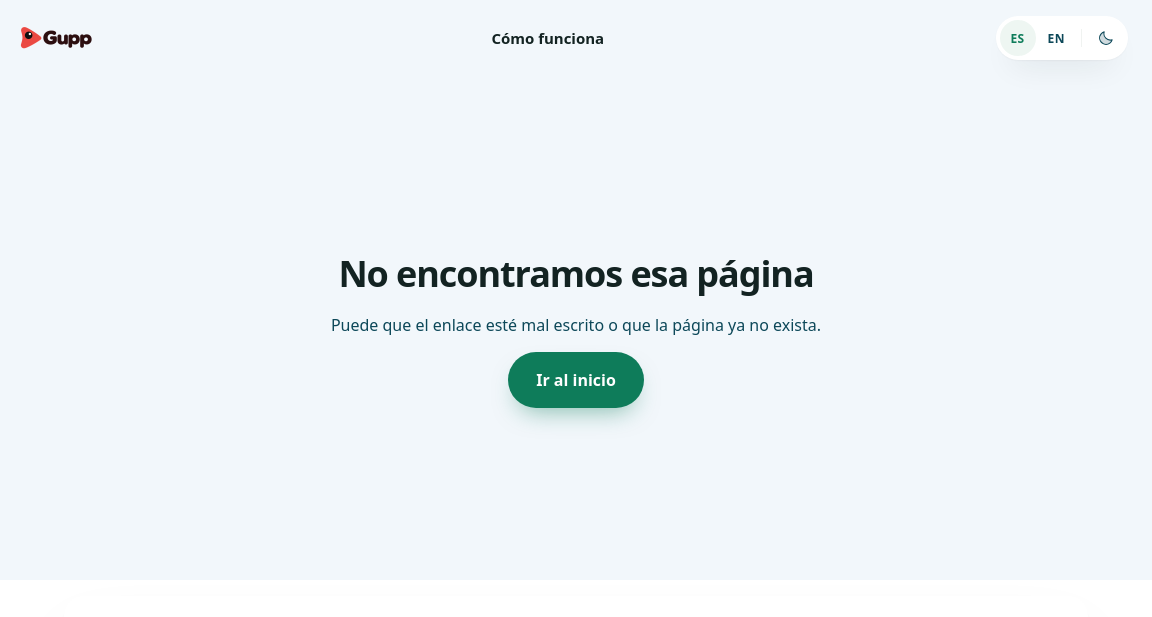
Test: AppRoutes › language switch › changes the language in the URL and keeps the rest of it
Click the button with aria-label "English" at {"x": 1056, "y": 38}, box x1=1038 y1=20 x2=1075 y2=56
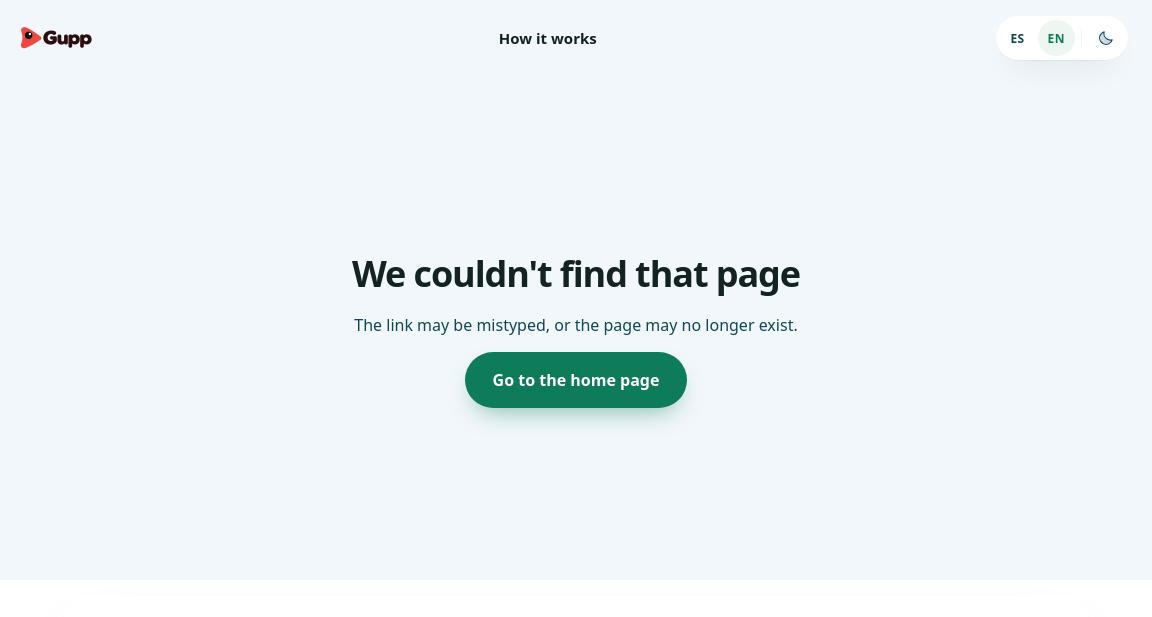
Result: the heading "We couldn't find that page" is shown at x1=352 y1=248 x2=800 y2=298
